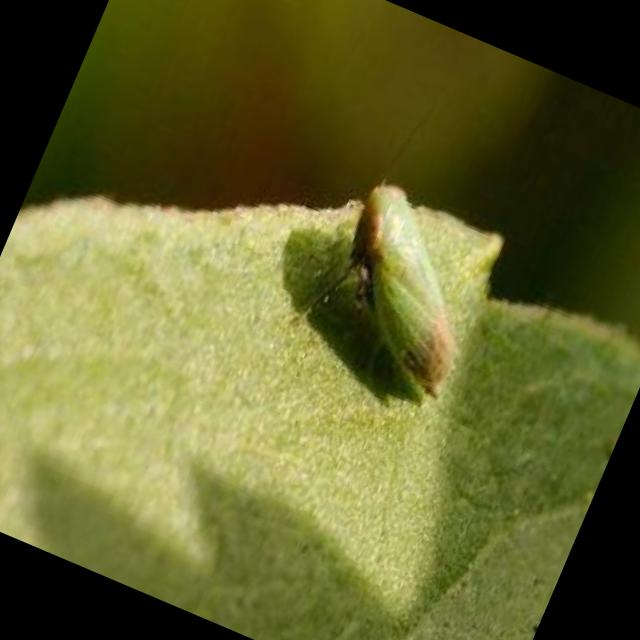green-leafhopper: (299, 178, 508, 405)
